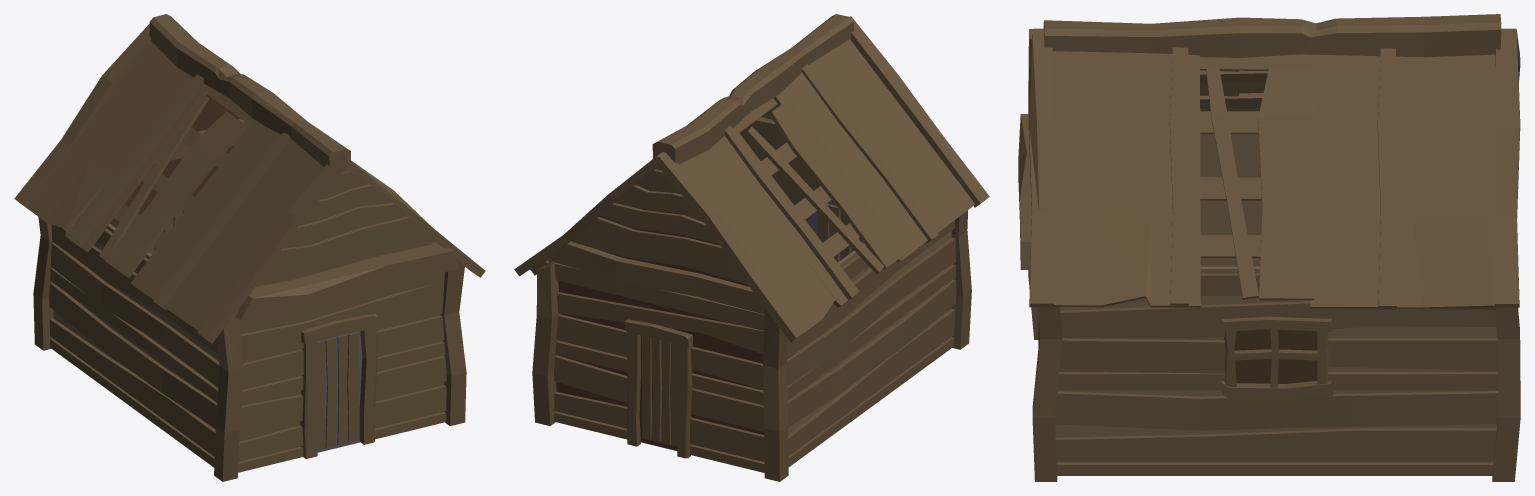
The model's file is SM_Bld_Hut_01.fbx.
3 renders of one model, left to right at view 1: azimuth 30°, elevation 25°; view 2: azimuth 150°, elevation 25°; view 3: azimuth 270°, elevation 25°, orthographic. The views are drawn at different scales.
Visible parts, largest first — view 1: SM_Bld_Hut_01; view 2: SM_Bld_Hut_01; view 3: SM_Bld_Hut_01.
Part boxes in pixels (<box>): SM_Bld_Hut_01: <box>14,14,485,481</box>; SM_Bld_Hut_01: <box>514,14,989,481</box>; SM_Bld_Hut_01: <box>1018,14,1520,481</box>.
Size of the model in its own units: 0.0521 by 0.054 by 0.0634.
Materials: 1 (1 with a texture image).
